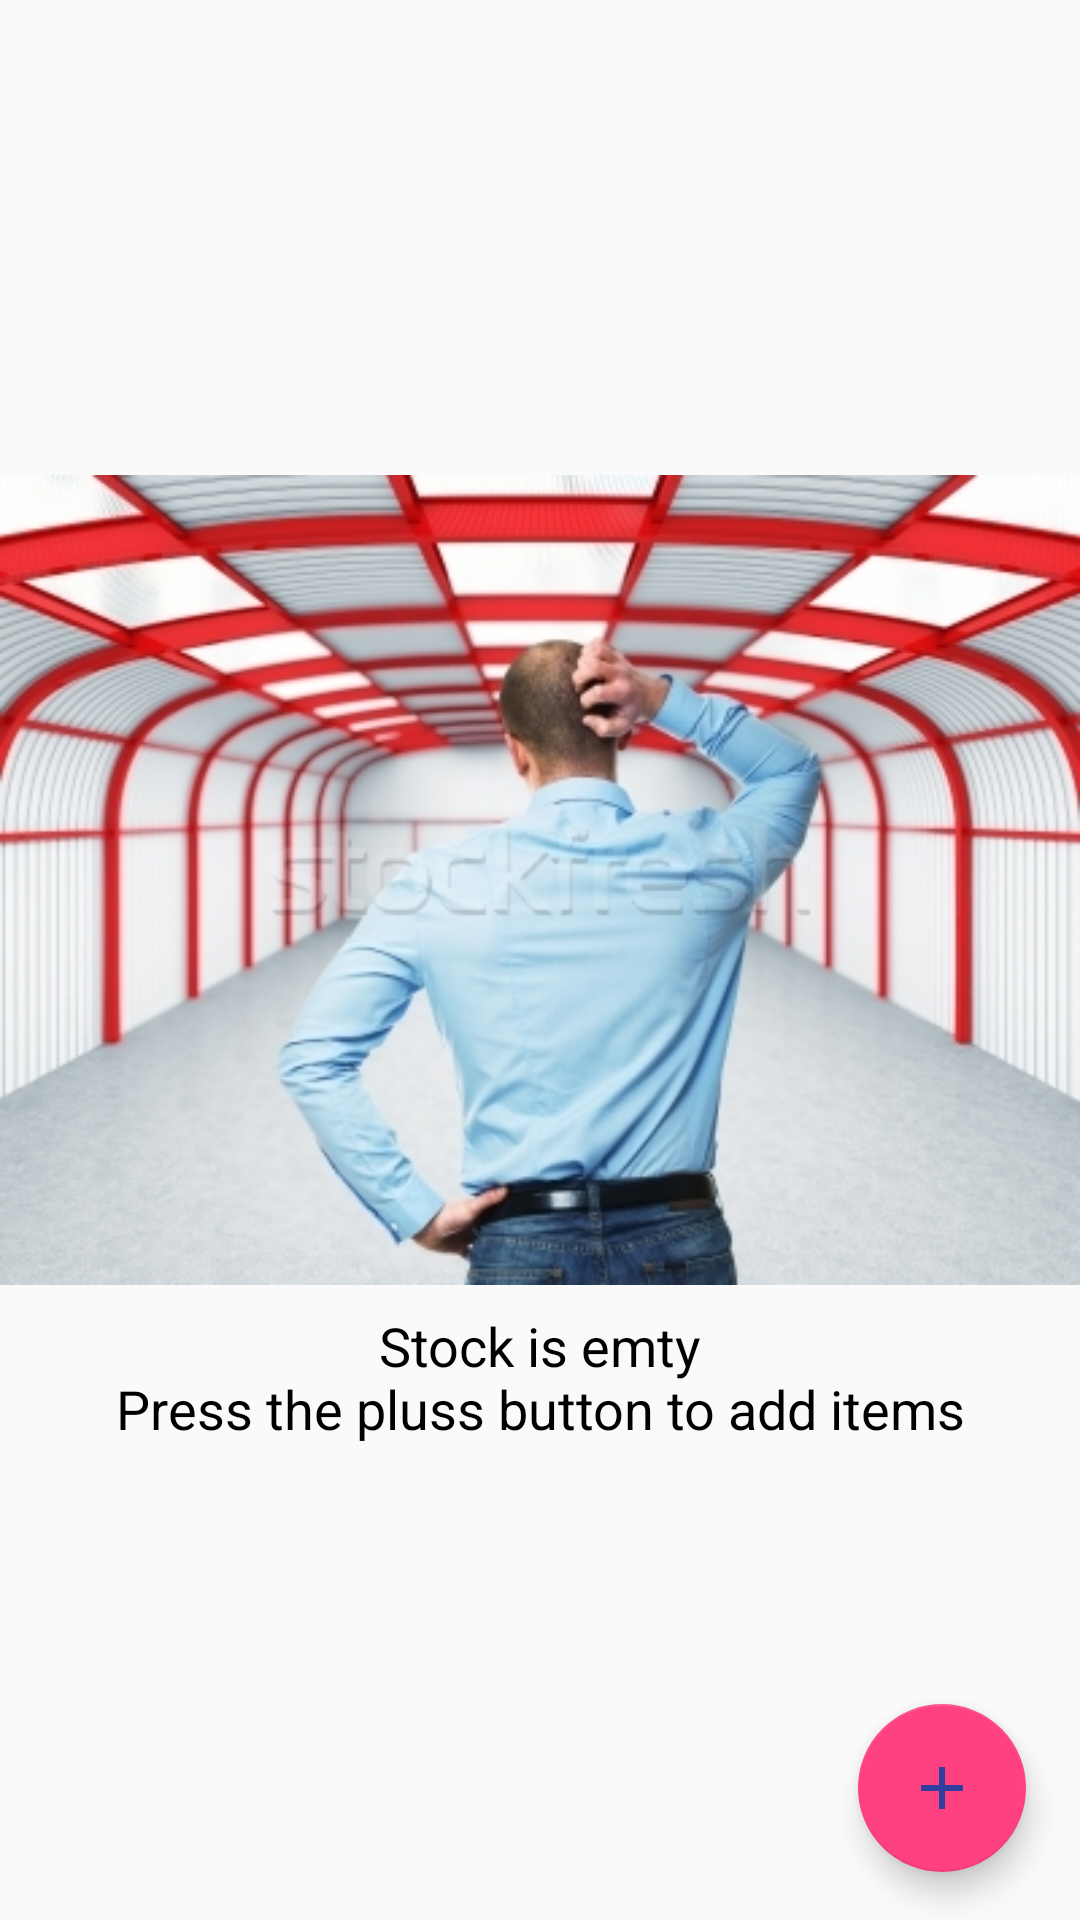

Icon bounding boxes for this 1080x1920 phone screenshot, format (x1, y1, x2, y2):
fab plus: (858, 1704, 1026, 1872)
